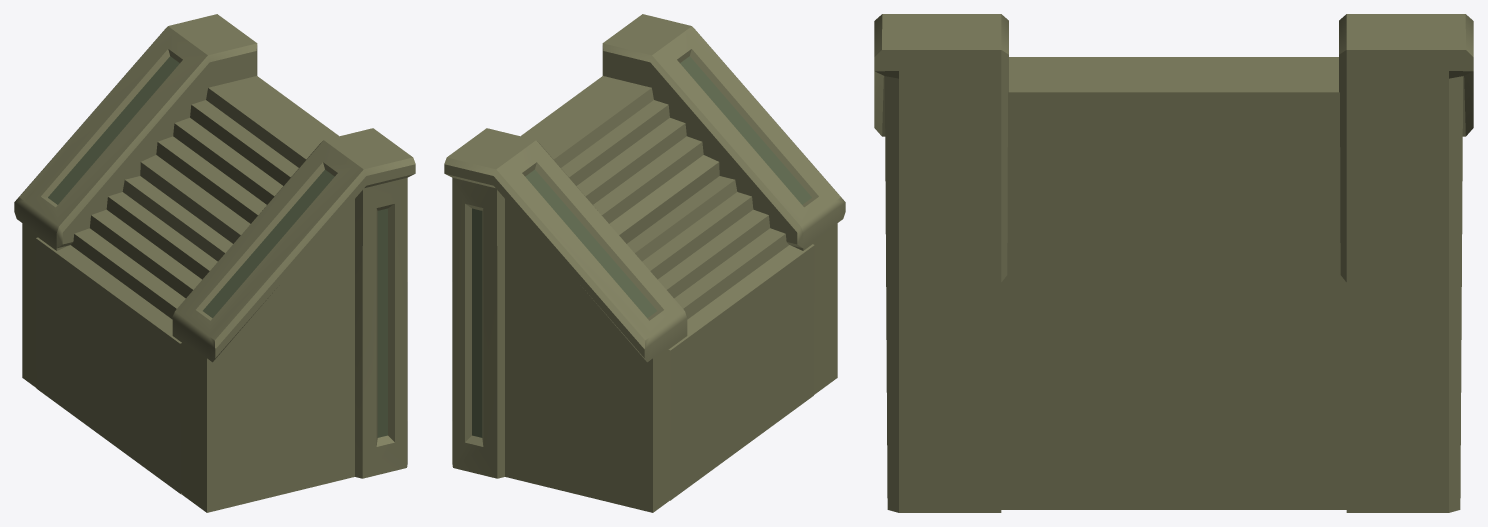
File: stairs04_1 1.fbx
3 views of the same model, side by side, from view 1: azimuth 30°, elevation 25°; view 2: azimuth 150°, elevation 25°; view 3: azimuth 270°, elevation 25° (orthographic). The views are drawn at different scales.
Visible parts, largest first — view 1: stairs04_1; view 2: stairs04_1; view 3: stairs04_1.
Boxes of the visible parts, x1=… form: stairs04_1: x1=14, y1=14, x2=415, y2=512; stairs04_1: x1=444, y1=14, x2=845, y2=512; stairs04_1: x1=874, y1=14, x2=1473, y2=512.
Bounding box in the file's own units: 2.96 × 4.34 × 5.09.
